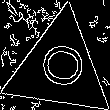O_W: (33, 43, 86, 93)
